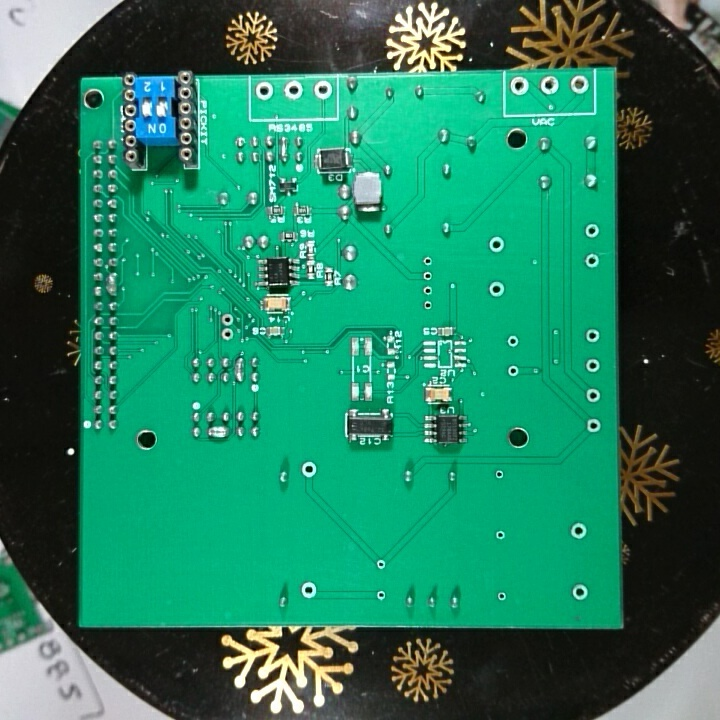F: (508, 75, 531, 99), (311, 79, 334, 103), (485, 278, 507, 303), (568, 73, 591, 96), (282, 80, 305, 102), (539, 74, 560, 98), (485, 233, 506, 257), (254, 81, 276, 103), (300, 458, 319, 481), (571, 581, 592, 601), (298, 579, 318, 600), (569, 521, 589, 541), (582, 221, 602, 240), (582, 252, 602, 271), (584, 386, 602, 405), (585, 326, 601, 346), (585, 358, 602, 375), (219, 326, 236, 343), (505, 363, 521, 381), (219, 310, 235, 327), (585, 415, 599, 434), (505, 332, 519, 351), (420, 254, 437, 269), (419, 268, 436, 283), (420, 283, 437, 297), (374, 555, 387, 573), (492, 467, 506, 483), (375, 587, 388, 604), (494, 589, 509, 603), (420, 297, 434, 312), (494, 528, 507, 543)
P: (231, 355, 247, 384), (204, 426, 231, 442), (277, 133, 290, 165), (105, 272, 119, 297)
